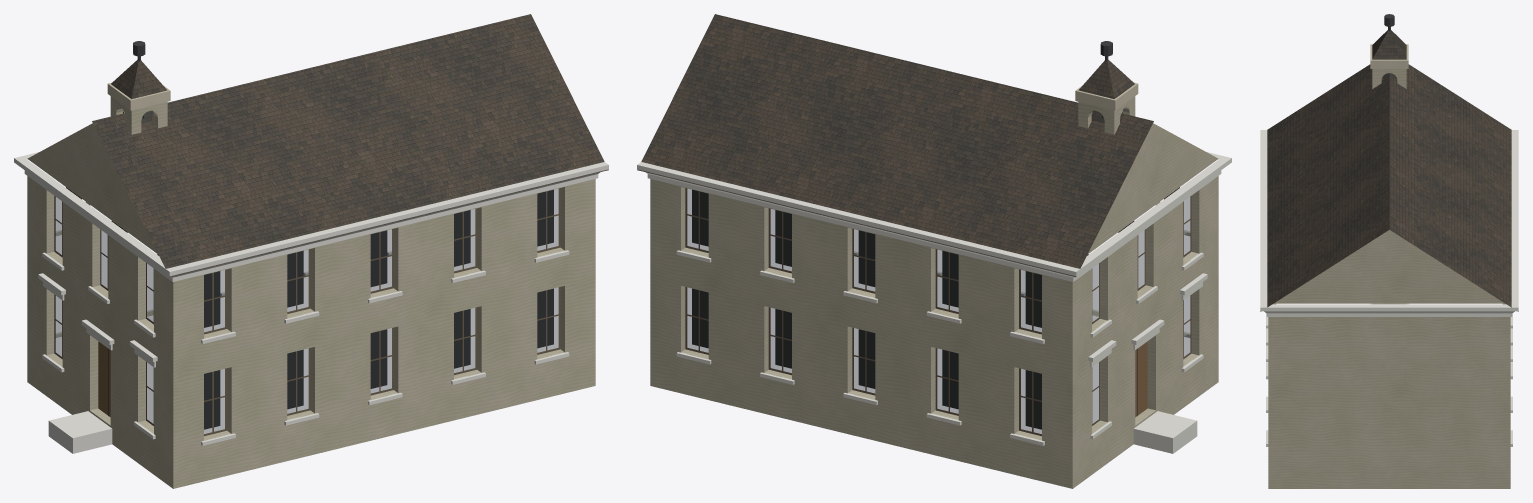
The model's file is st_pauls_school_1871__school_1868_1871.glb.
The picture shows the model from 3 angles, left to right: view 1: azimuth 30°, elevation 25°; view 2: azimuth 150°, elevation 25°; view 3: azimuth 270°, elevation 25°; orthographic projection. The views are drawn at different scales.
Visible parts, largest first — view 1: st_pauls_school_1871__school_1868_1871; view 2: st_pauls_school_1871__school_1868_1871; view 3: st_pauls_school_1871__school_1868_1871.
Part boxes in pixels (left/top/right/bottom): st_pauls_school_1871__school_1868_1871: left=14, top=14, right=608, bottom=488; st_pauls_school_1871__school_1868_1871: left=637, top=14, right=1231, bottom=488; st_pauls_school_1871__school_1868_1871: left=1260, top=14, right=1518, bottom=488.
Size of the model in its own units: 16.92 by 13.15 by 9.7.
9 materials, 3 textured.
